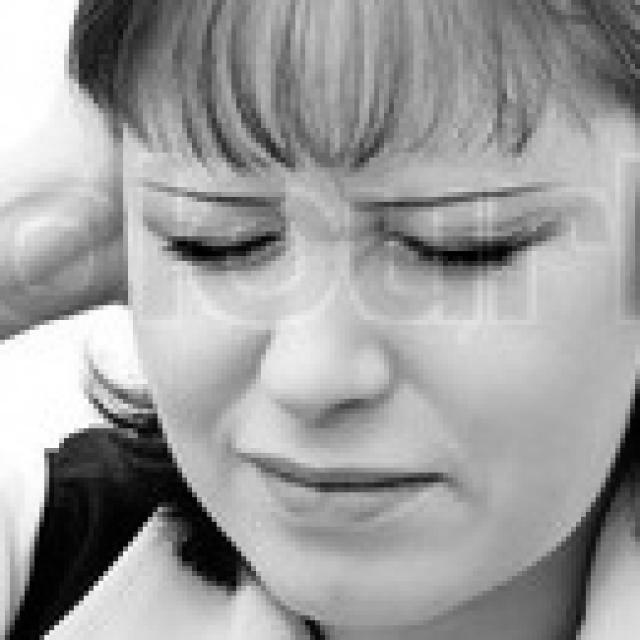real: (110, 37, 640, 546), (145, 197, 568, 289)
